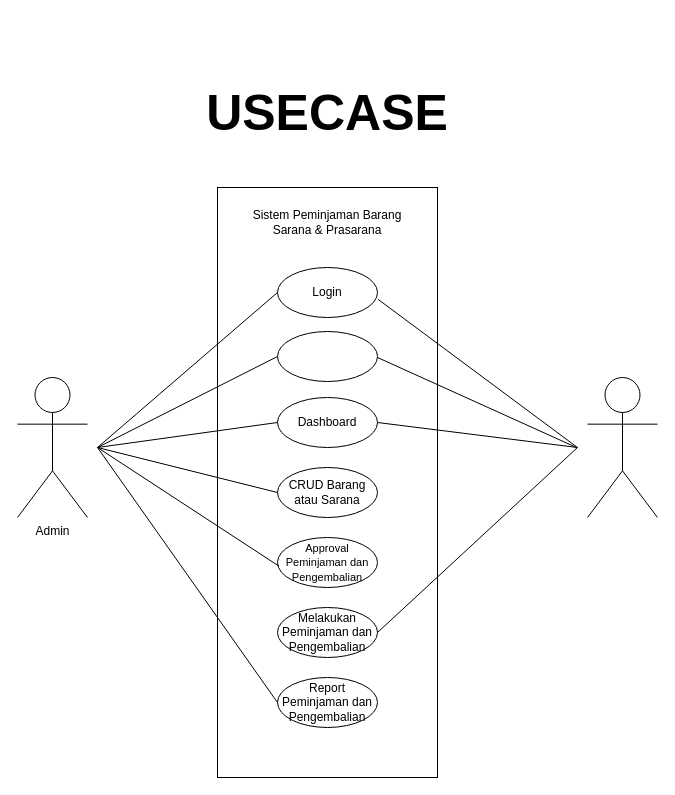
This 675x795 diagram has some shape labels left out. The centre of each missing label's shape, as x and y in pixels:
"Logout" belongs at [327,356].
"User" belongs at [622,447].
